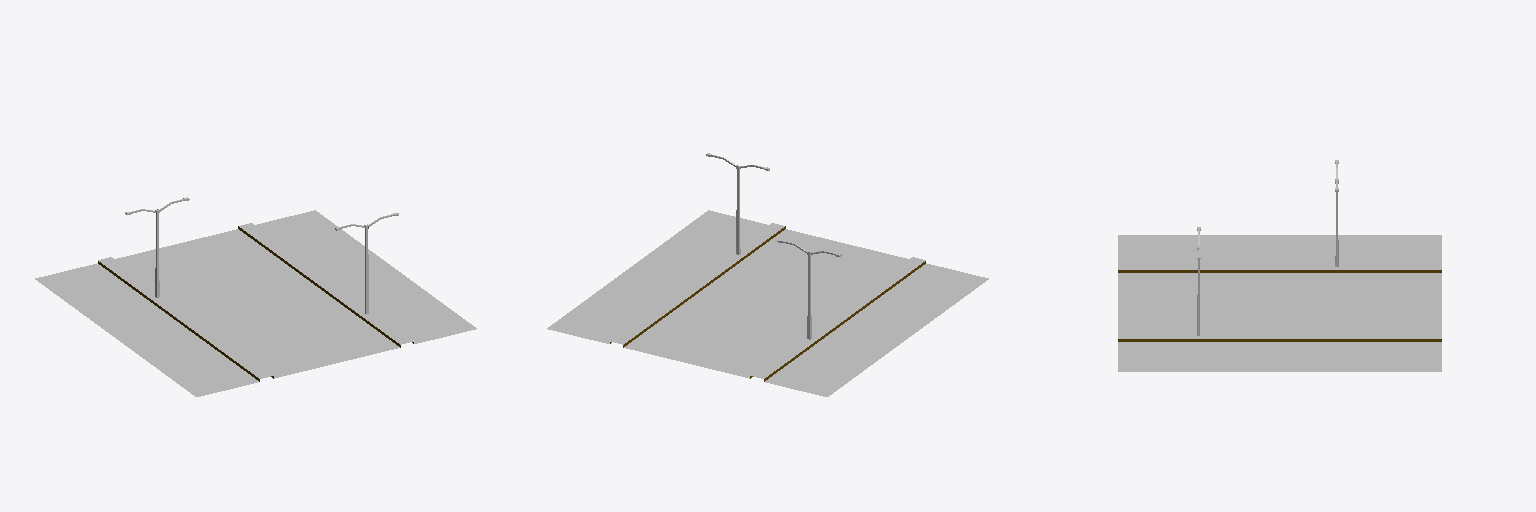
The model's file is blvd_main.obj.
The picture shows the model from 3 angles: view 1: azimuth 30°, elevation 25°; view 2: azimuth 150°, elevation 25°; view 3: azimuth 270°, elevation 25°; orthographic projection.
Visible parts, largest first — view 1: blvd_main_Plane.002; view 2: blvd_main_Plane.002; view 3: blvd_main_Plane.002.
Part boxes in pixels (bbox=[...]): blvd_main_Plane.002: bbox=[35, 197, 476, 396]; blvd_main_Plane.002: bbox=[547, 153, 988, 396]; blvd_main_Plane.002: bbox=[1118, 160, 1441, 371].
Size of the model in its own units: 1.6 by 0.5207 by 1.6.